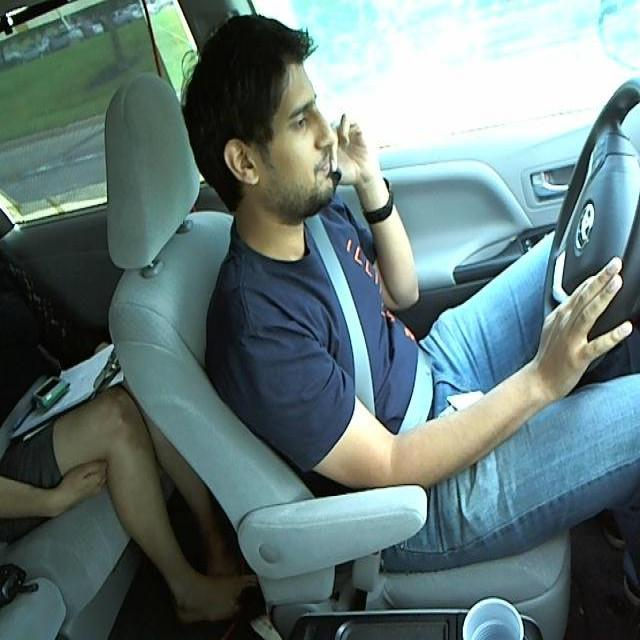using_phone: (215, 59, 379, 197)
